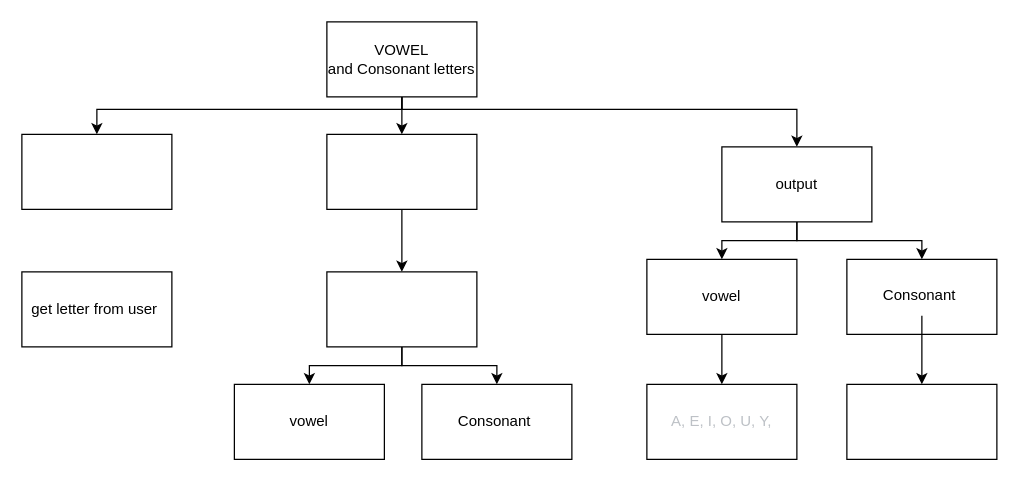
This 1019x481 diagram has some shape labels left out. Each missing label, with the centre of its shape:
"B,C,D,F,G,H....." belongs at [921,421].
"input" belongs at [96,171].
"letters" belongs at [401,309].
"process" belongs at [401,171].
